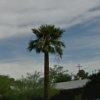Palm tree: (24, 20, 72, 100)
